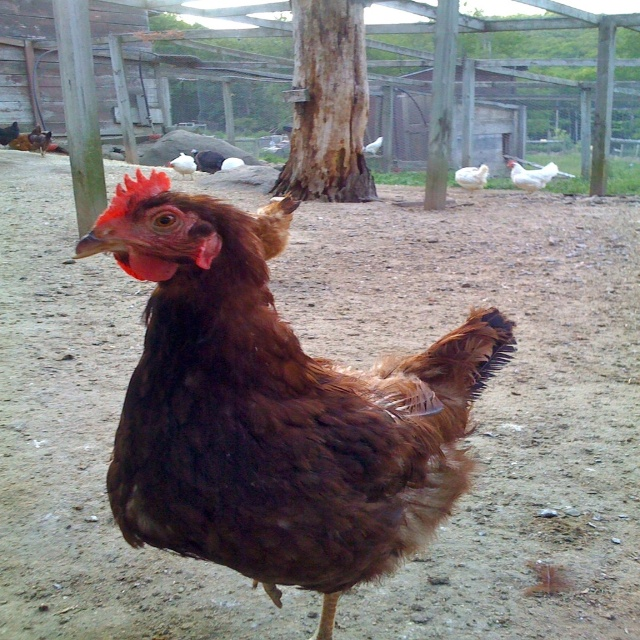Chicken: (68, 165, 519, 640), (506, 157, 559, 200), (454, 165, 487, 198), (26, 124, 55, 157), (166, 150, 196, 181), (0, 121, 21, 150)
